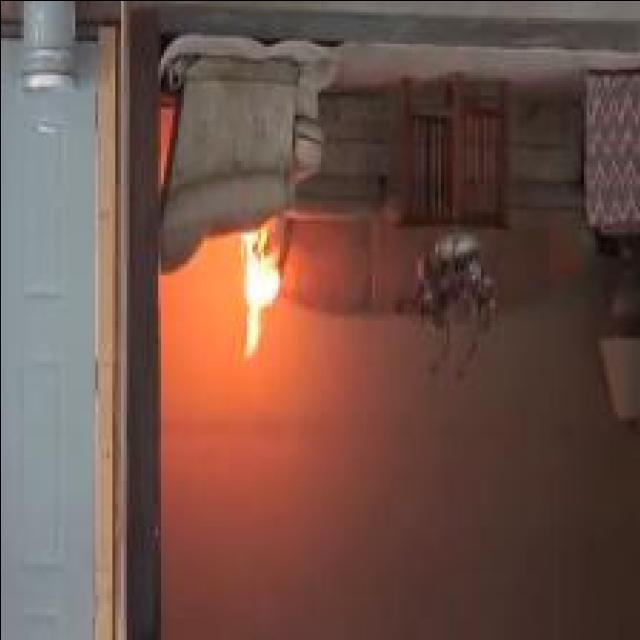Fire: (237, 228, 277, 354)
